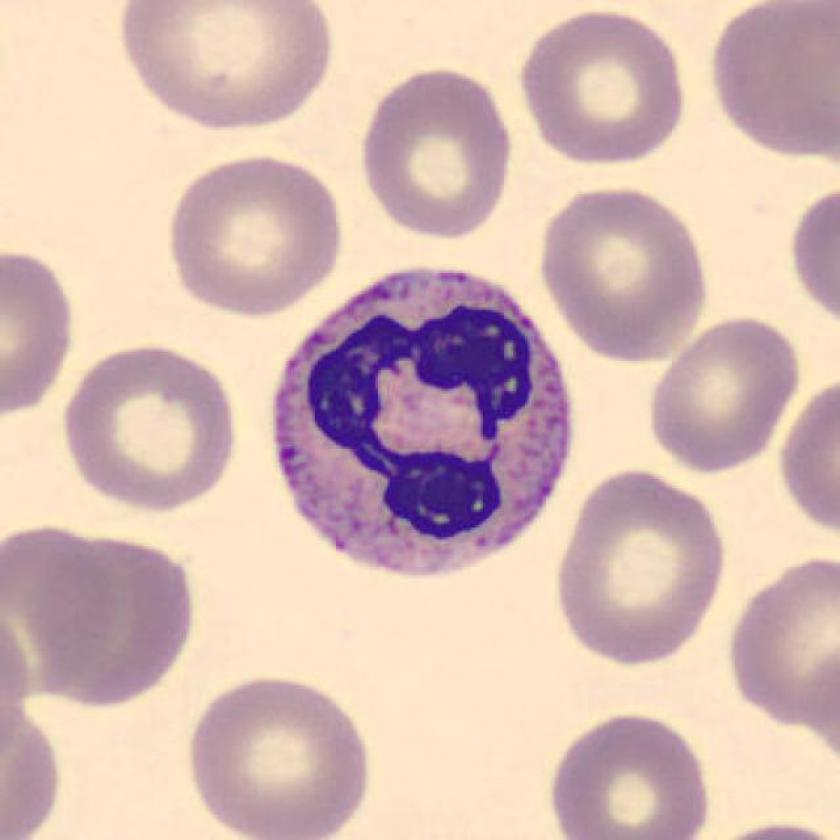neutrophil: (278, 270, 571, 579)
